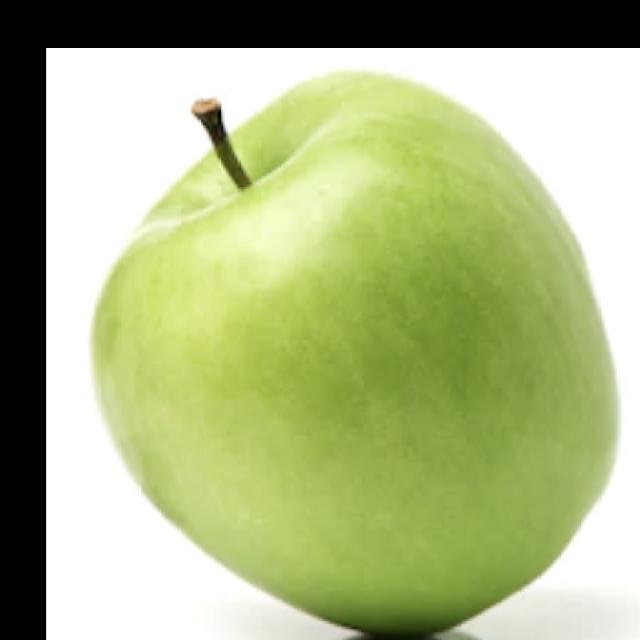Fresh Apple: (92, 72, 628, 640)
